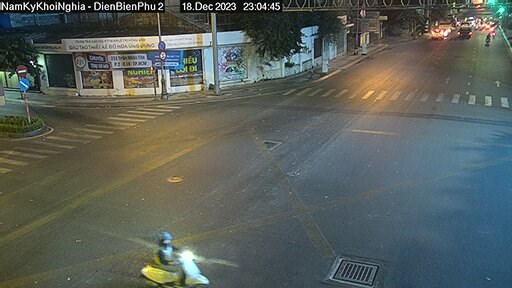car: (457, 22, 474, 42), (429, 25, 446, 42)
motorbike: (138, 227, 214, 287)
